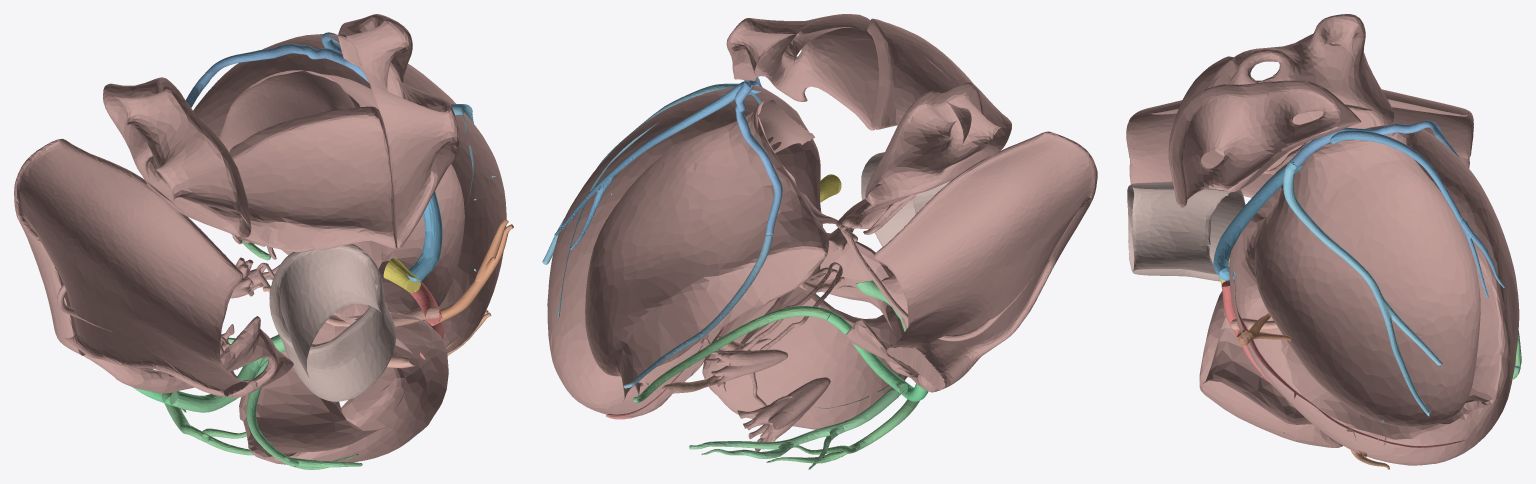
Rendered from heart_anatomy.glb.
3 views of the same model, side by side, from view 1: azimuth 30°, elevation 25°; view 2: azimuth 150°, elevation 25°; view 3: azimuth 270°, elevation 25° (orthographic). The views are drawn at different scales.
Visible parts, largest first — view 1: myocardium, aorta, artery__dist-rca__Dist RCA, artery__dist-lcx__Dist LCx, artery__d1__Diagonal 1, artery__plv__PLV, artery__prox-lcx__Prox LCx, artery__sep1__Septal, artery__lm__Left Main, artery__prox-lad__Prox LAD; view 2: myocardium, artery__plv__PLV, artery__am__Acute Marginal, artery__om2__OM2, artery__dist-lcx__Dist LCx, aorta, artery__pda__PDA, artery__om1__OM1, artery__mid-rca__Mid RCA, artery__sep1__Septal; view 3: myocardium, aorta, artery__om1__OM1, artery__om2__OM2, artery__prox-lcx__Prox LCx, artery__dist-lcx__Dist LCx, artery__d1__Diagonal 1, artery__mid-lad__Mid LAD, artery__prox-lad__Prox LAD, artery__dist-lad__Dist LAD.
Boxes of the visible parts, x1,y1,x2,y2 form: myocardium: [14, 14, 506, 464]; aorta: [269, 244, 395, 401]; artery__dist-rca__Dist RCA: [169, 334, 362, 469]; artery__dist-lcx__Dist LCx: [185, 43, 368, 107]; artery__d1__Diagonal 1: [430, 218, 513, 325]; artery__plv__PLV: [161, 234, 270, 455]; artery__prox-lcx__Prox LCx: [407, 191, 442, 282]; artery__sep1__Septal: [262, 286, 438, 368]; artery__lm__Left Main: [383, 257, 420, 292]; artery__prox-lad__Prox LAD: [409, 281, 441, 324]; myocardium: [547, 14, 1097, 451]; artery__plv__PLV: [633, 306, 919, 463]; artery__am__Acute Marginal: [689, 381, 907, 469]; artery__om2__OM2: [554, 81, 750, 249]; artery__dist-lcx__Dist LCx: [735, 77, 782, 235]; aorta: [861, 152, 950, 246]; artery__pda__PDA: [623, 235, 772, 388]; artery__om1__OM1: [542, 82, 761, 318]; artery__mid-rca__Mid RCA: [826, 311, 908, 393]; artery__sep1__Septal: [661, 277, 844, 393]; myocardium: [1126, 14, 1519, 465]; aorta: [1127, 181, 1245, 281]; artery__om1__OM1: [1283, 161, 1442, 422]; artery__om2__OM2: [1330, 130, 1504, 297]; artery__prox-lcx__Prox LCx: [1213, 162, 1302, 281]; artery__dist-lcx__Dist LCx: [1287, 120, 1460, 171]; artery__d1__Diagonal 1: [1237, 313, 1291, 345]; artery__mid-lad__Mid LAD: [1237, 328, 1296, 398]; artery__prox-lad__Prox LAD: [1221, 280, 1246, 335]; artery__dist-lad__Dist LAD: [1296, 391, 1466, 447].
Size of the model in its own units: 3 by 2.77 by 2.66.
